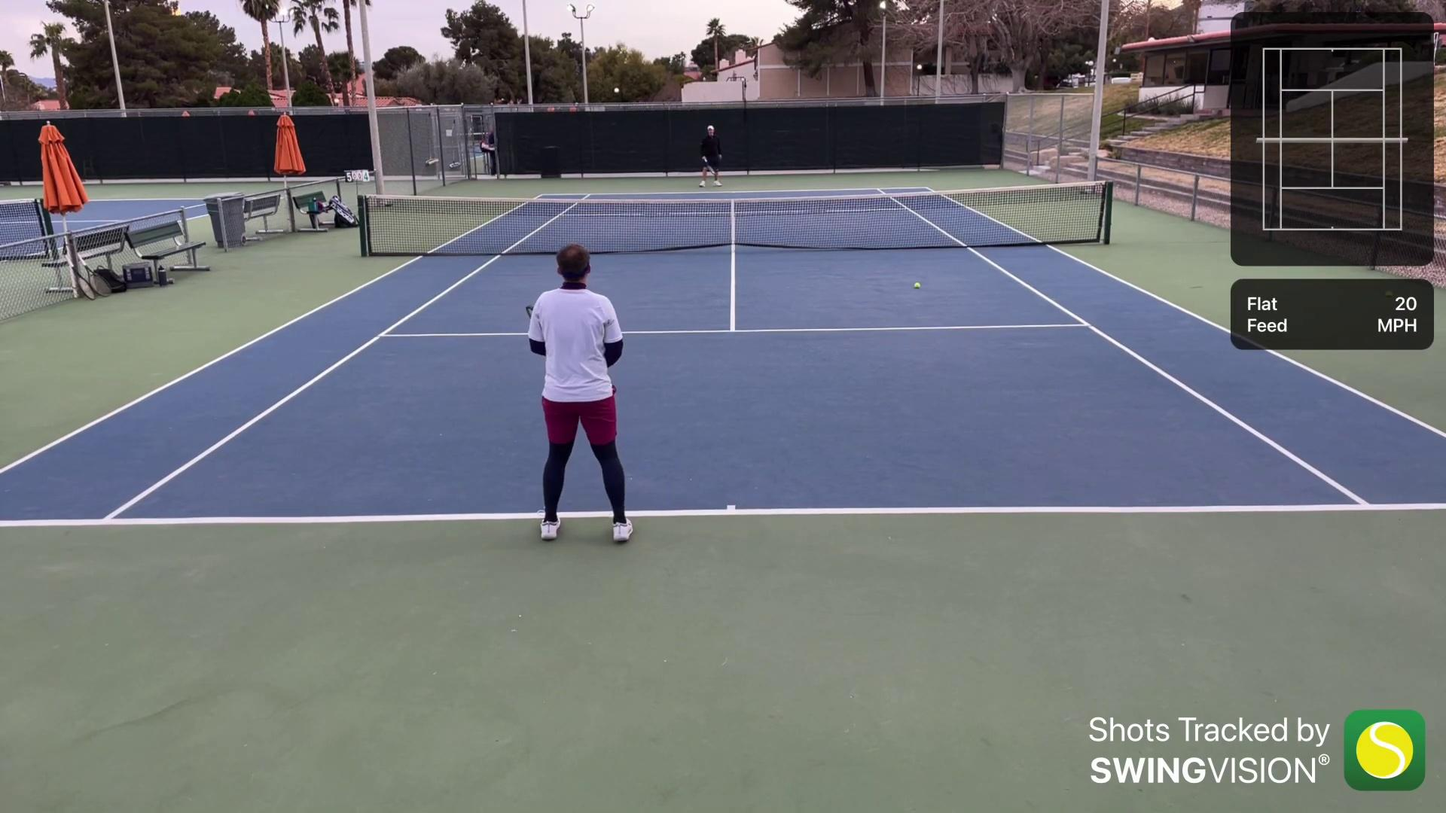ball: (911, 280, 923, 293)
